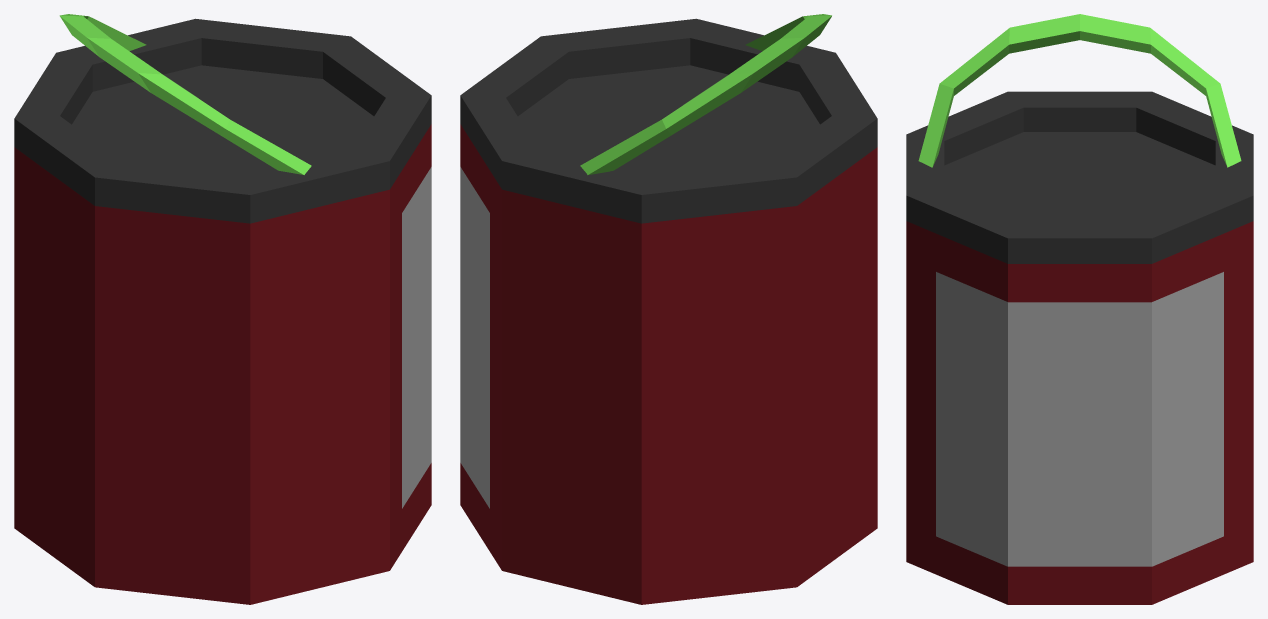
The model's file is Balde02.fbx.
3 views of the same model, side by side, from view 1: azimuth 30°, elevation 25°; view 2: azimuth 150°, elevation 25°; view 3: azimuth 270°, elevation 25° (orthographic). The views are drawn at different scales.
Parts seen in each view (by area): view 1: Cylinder.081; view 2: Cylinder.081; view 3: Cylinder.081.
Part boxes in pixels (<box>): Cylinder.081: <box>14,14,431,604</box>; Cylinder.081: <box>460,14,877,604</box>; Cylinder.081: <box>906,14,1253,604</box>.
Size of the model in its own units: 46.43 by 67.52 by 46.43.
